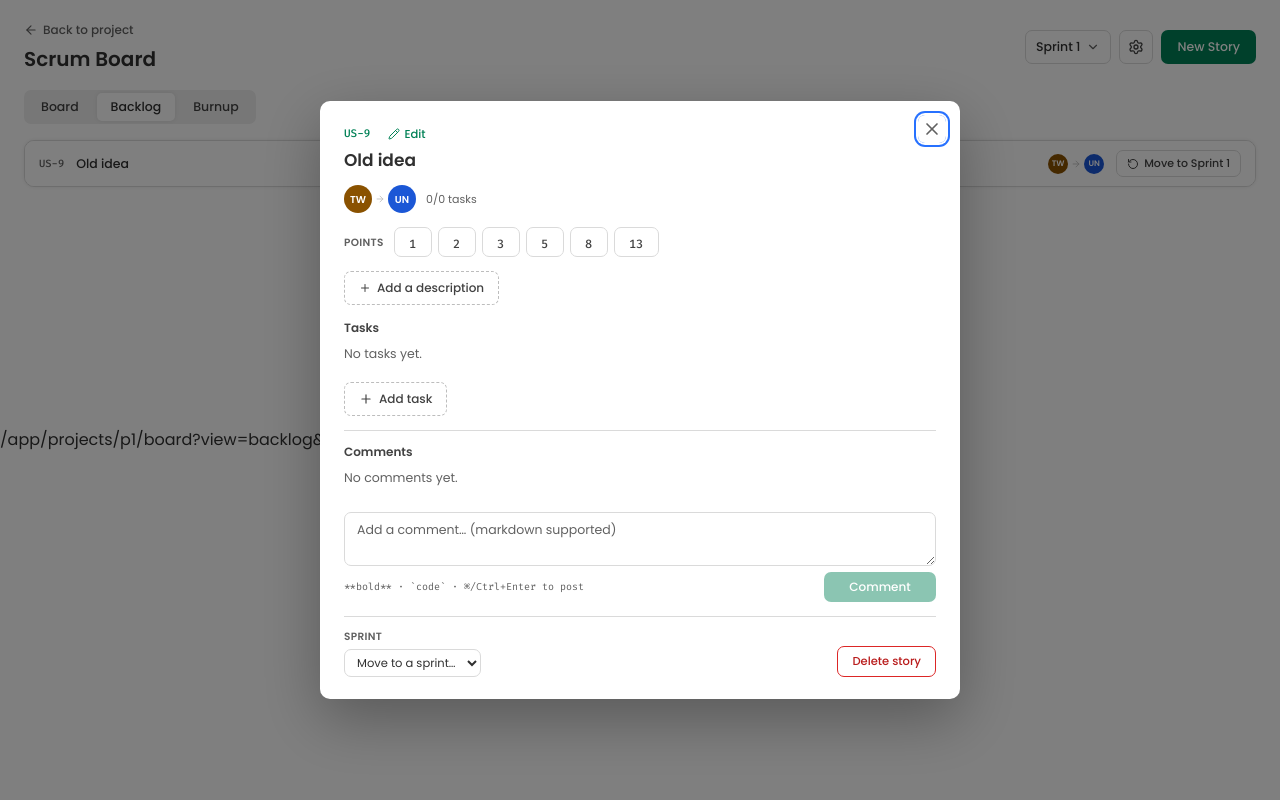
it: ScrumBoardPage story detail › a refused delete keeps the story open and explains
Click the button "Delete story" at [887, 661], box [837,646,936,677]
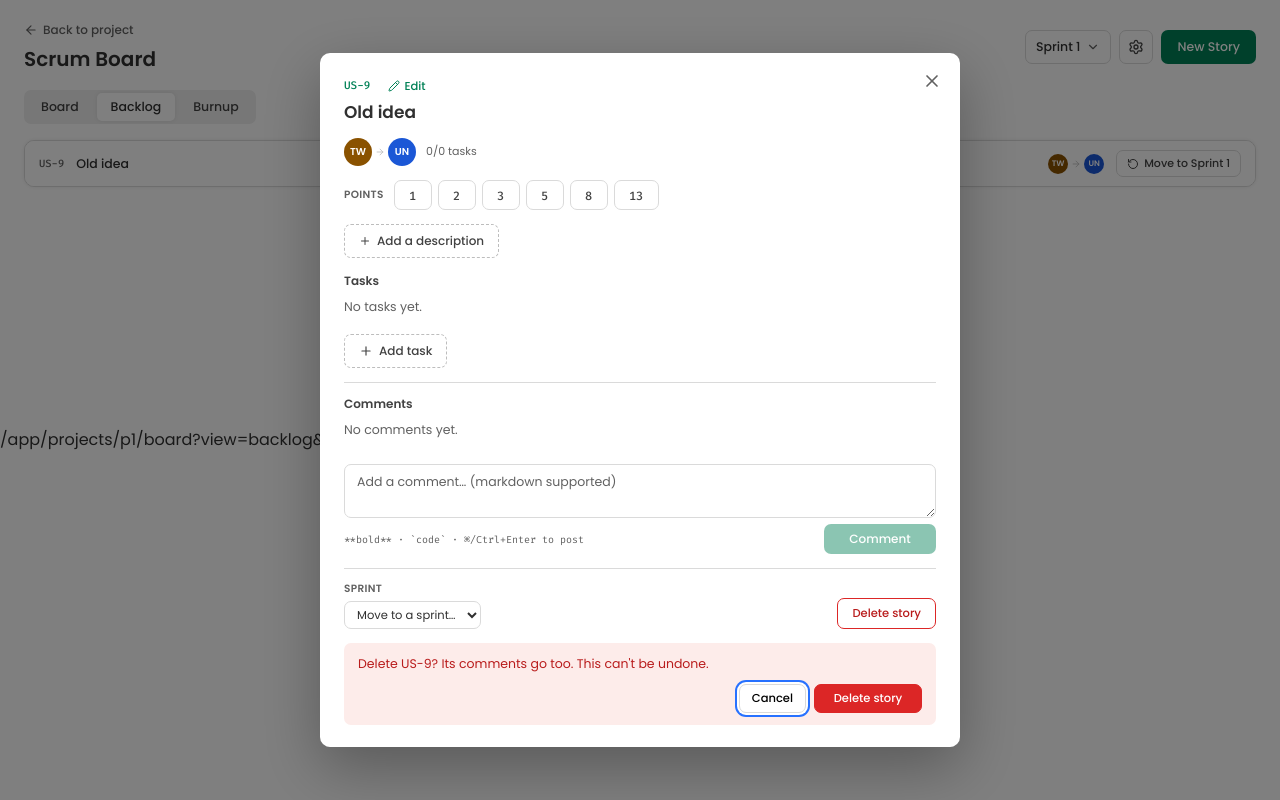
Click the 2nd button "Delete story" at [868, 698], box [814,684,922,712]
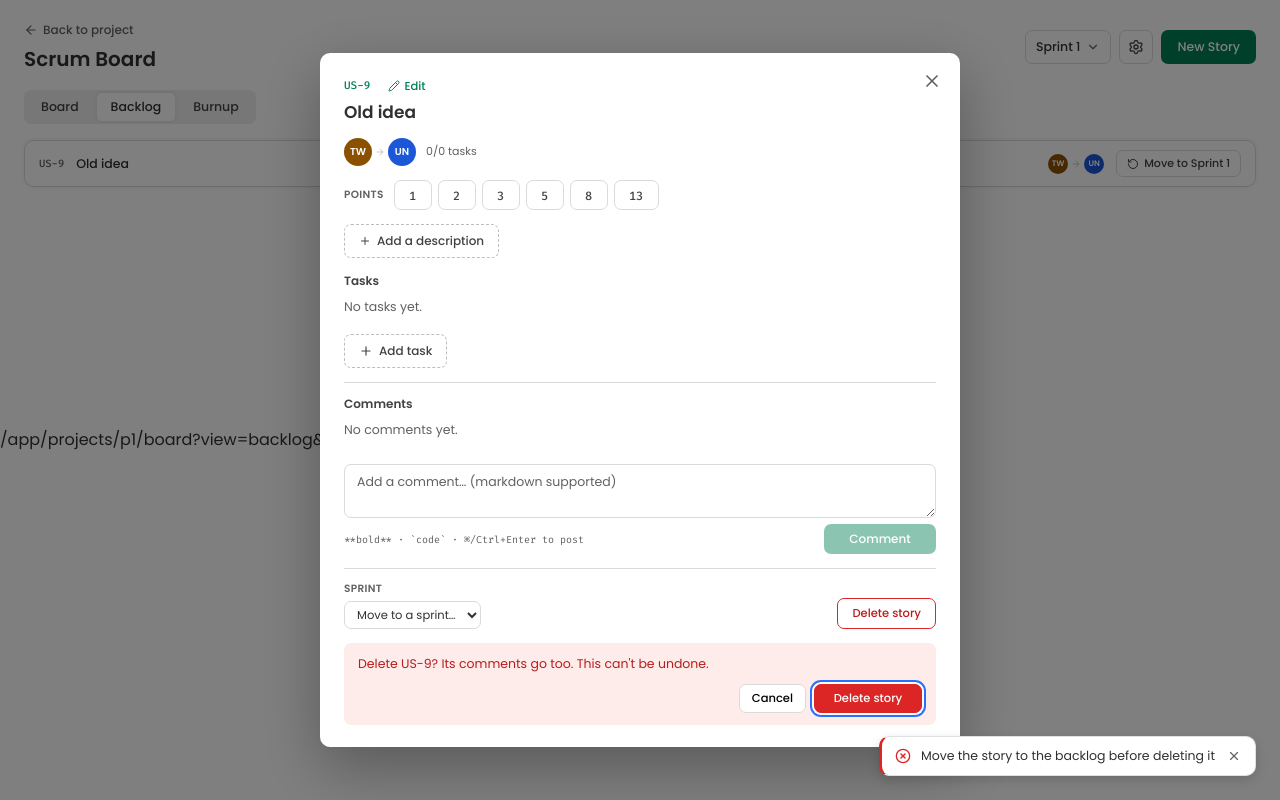
expect the heading "Old idea" is shown: met, box [344,100,416,124]
expect the text "Move the story to the backlog before deleting it" is shown: met, box [921,747,1215,765]
